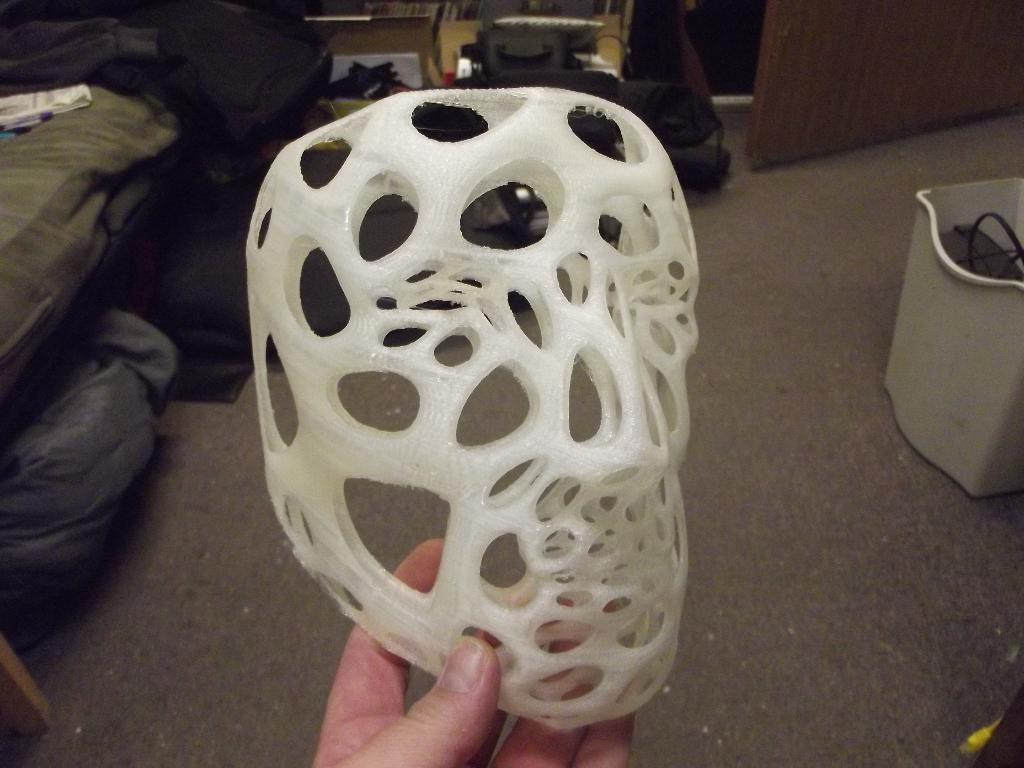Human_hand: (312, 539, 636, 768)
